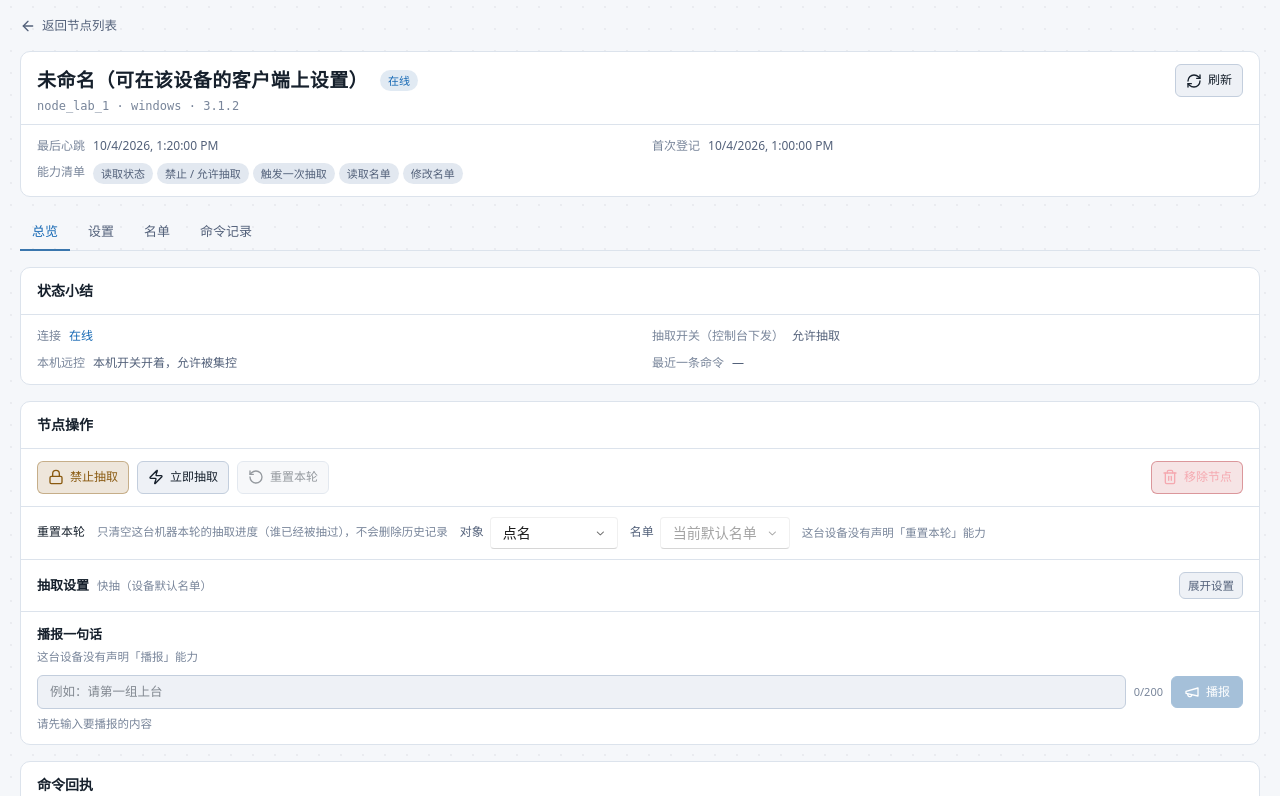
Test: 抽取设置的界面 › 切到「点名单」时给出发送按钮，并说清"还没读名单"该怎么走
Click the button with test id "node-detail-draw-toggle" at (1211, 585), box [1179, 572, 1243, 599]
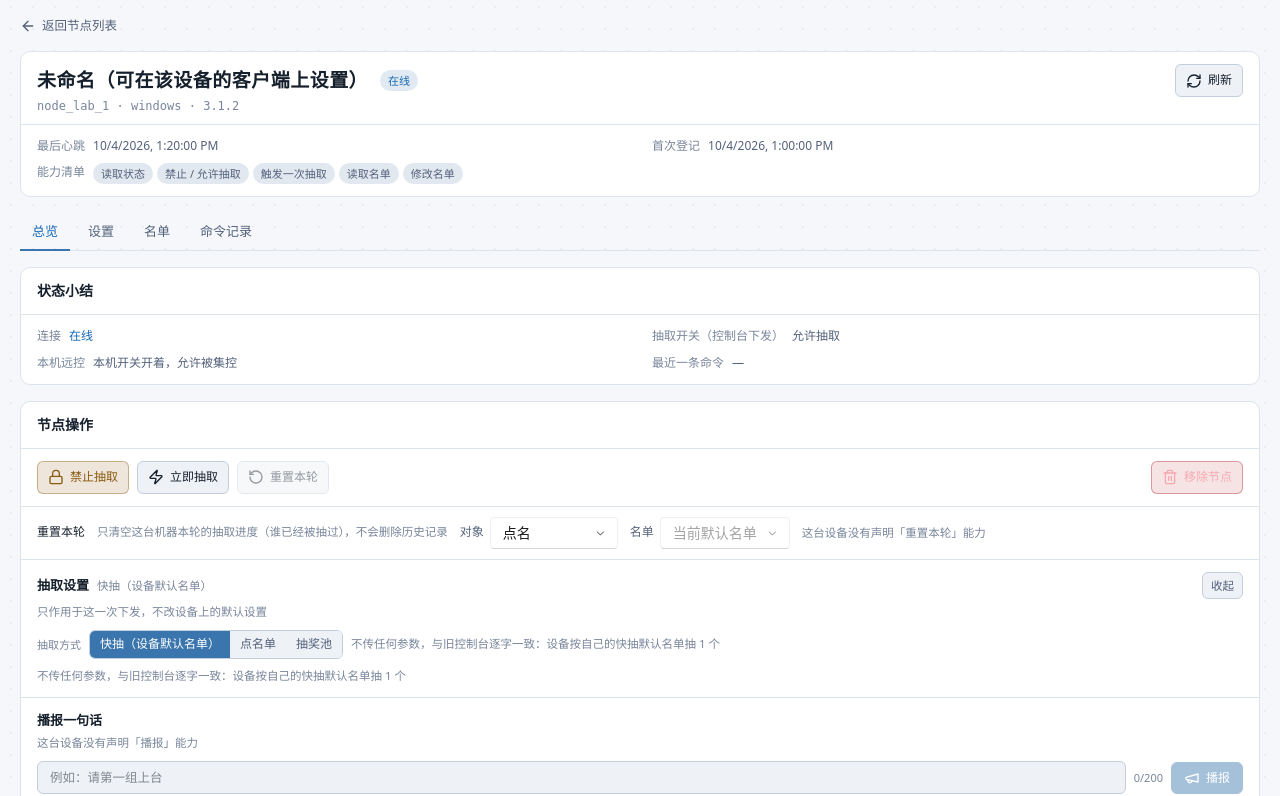
Click the button with test id "node-detail-draw-scope-roll-call" at (258, 644), box [230, 631, 286, 658]
(page scrolled)
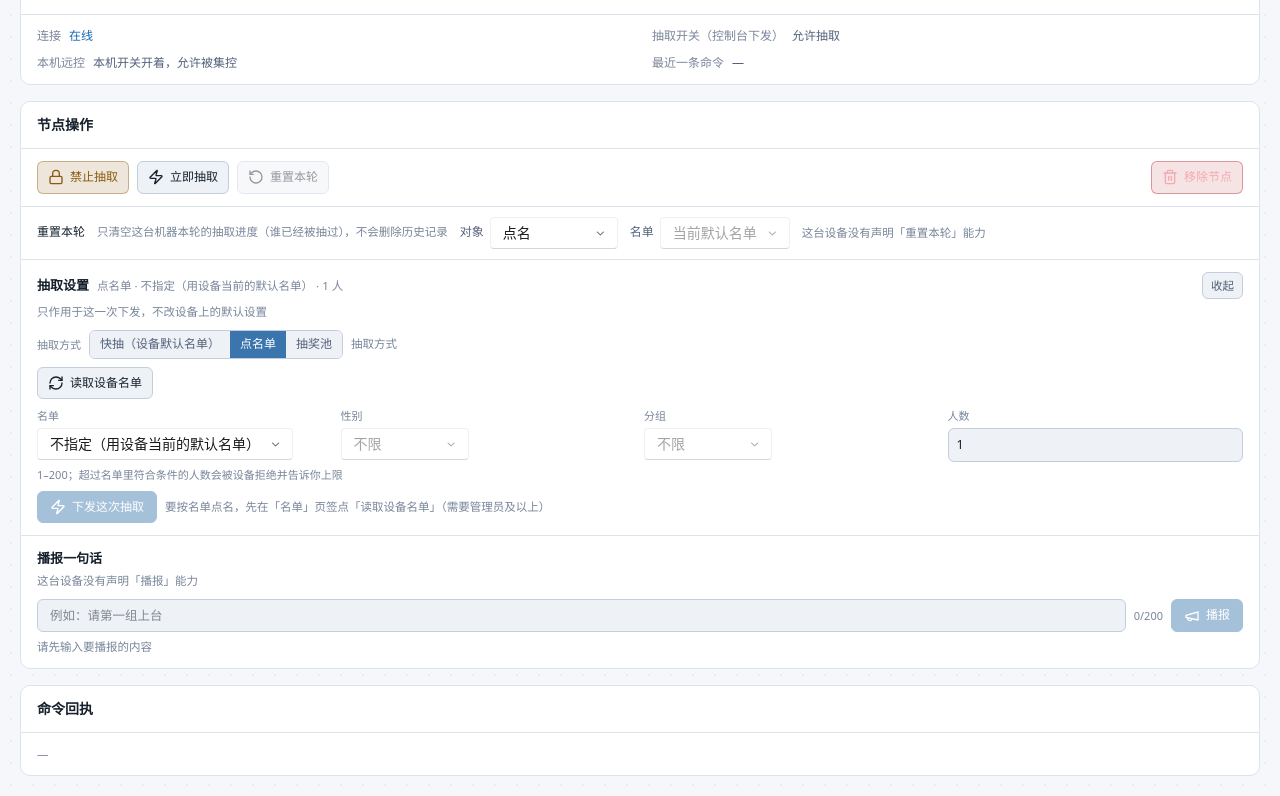
Now the button with test id "node-detail-draw-submit" is disabled, box [37, 491, 157, 523]
